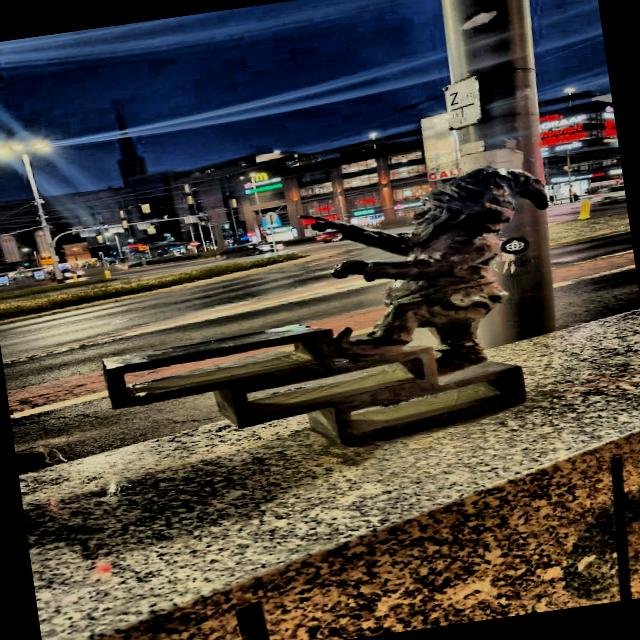Elementek: (104, 169, 548, 445)
